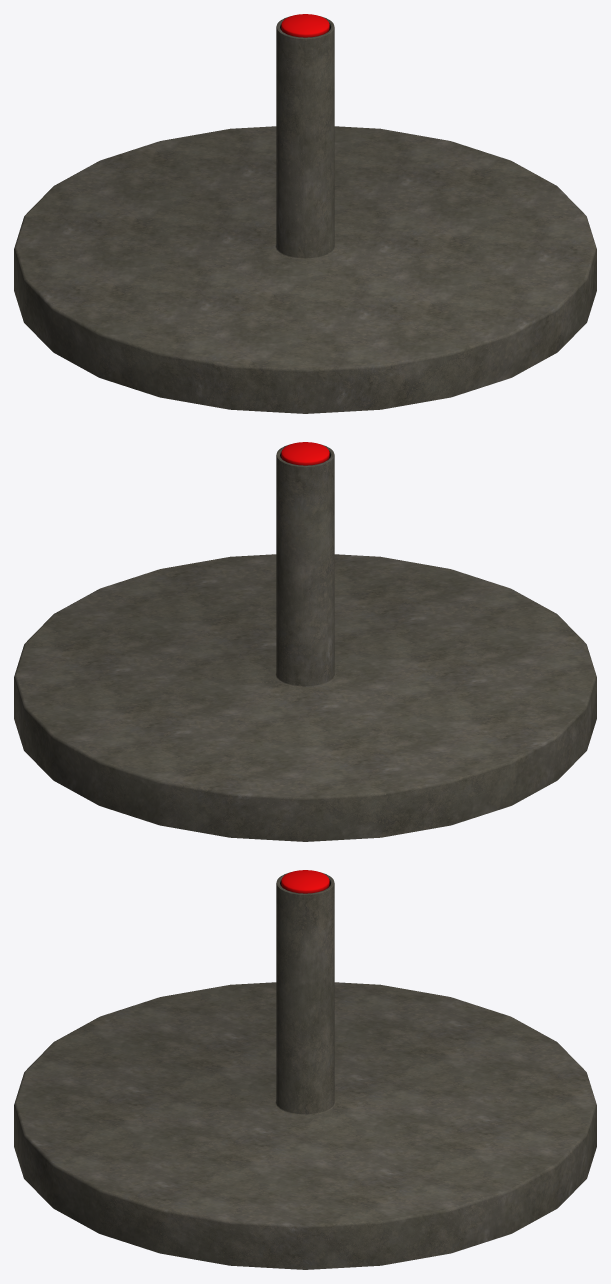
File: ButtonPlatform.glb
3 renders of one model, top to bottom at view 1: azimuth 30°, elevation 25°; view 2: azimuth 150°, elevation 25°; view 3: azimuth 270°, elevation 25°, orthographic.
Parts seen in each view (by area): view 1: Cylinder.001, Cylinder; view 2: Cylinder.001, Cylinder; view 3: Cylinder.001, Cylinder.
Boxes of the visible parts, <box> form: Cylinder.001: <box>14,16,596,413</box>; Cylinder: <box>281,14,329,37</box>; Cylinder.001: <box>14,444,596,841</box>; Cylinder: <box>281,442,329,465</box>; Cylinder.001: <box>14,872,596,1269</box>; Cylinder: <box>281,870,329,893</box>.
Size of the model in its own units: 2.4 by 1.23 by 2.4.
2 materials, 1 textured.
